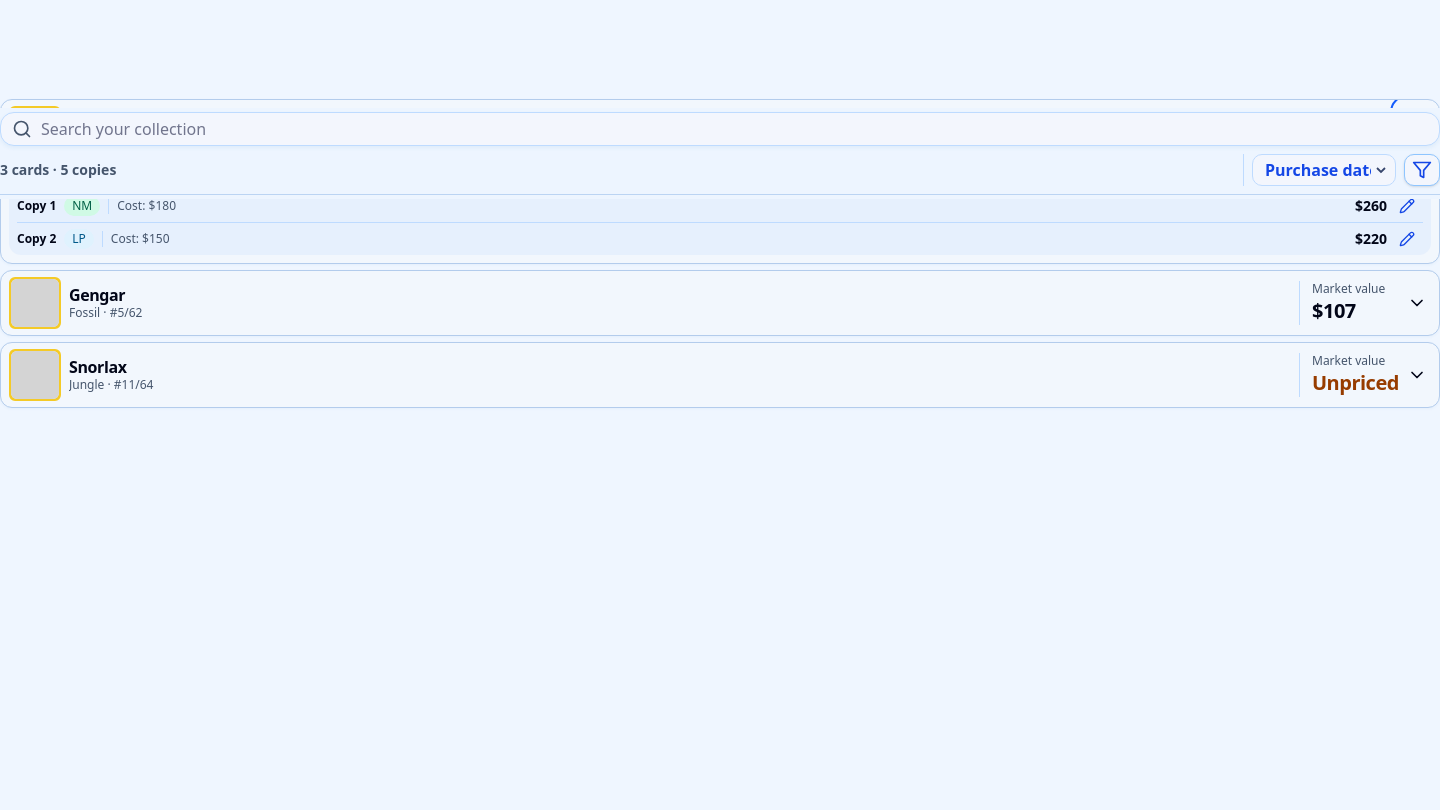
Test: expands duplicates with separate grades/prices and edits the exact chosen copy
Earlier steps of the test are not shown.
Later steps or results of the test are not shown.
Expected: the text "Cost: $180" is shown, [108,198,176,214]
Expected: the text "Cost: $150" is shown, [102,230,170,246]
Click the button named "Edit copy charizard-b" at (1407, 238), box [1391,222,1423,254]
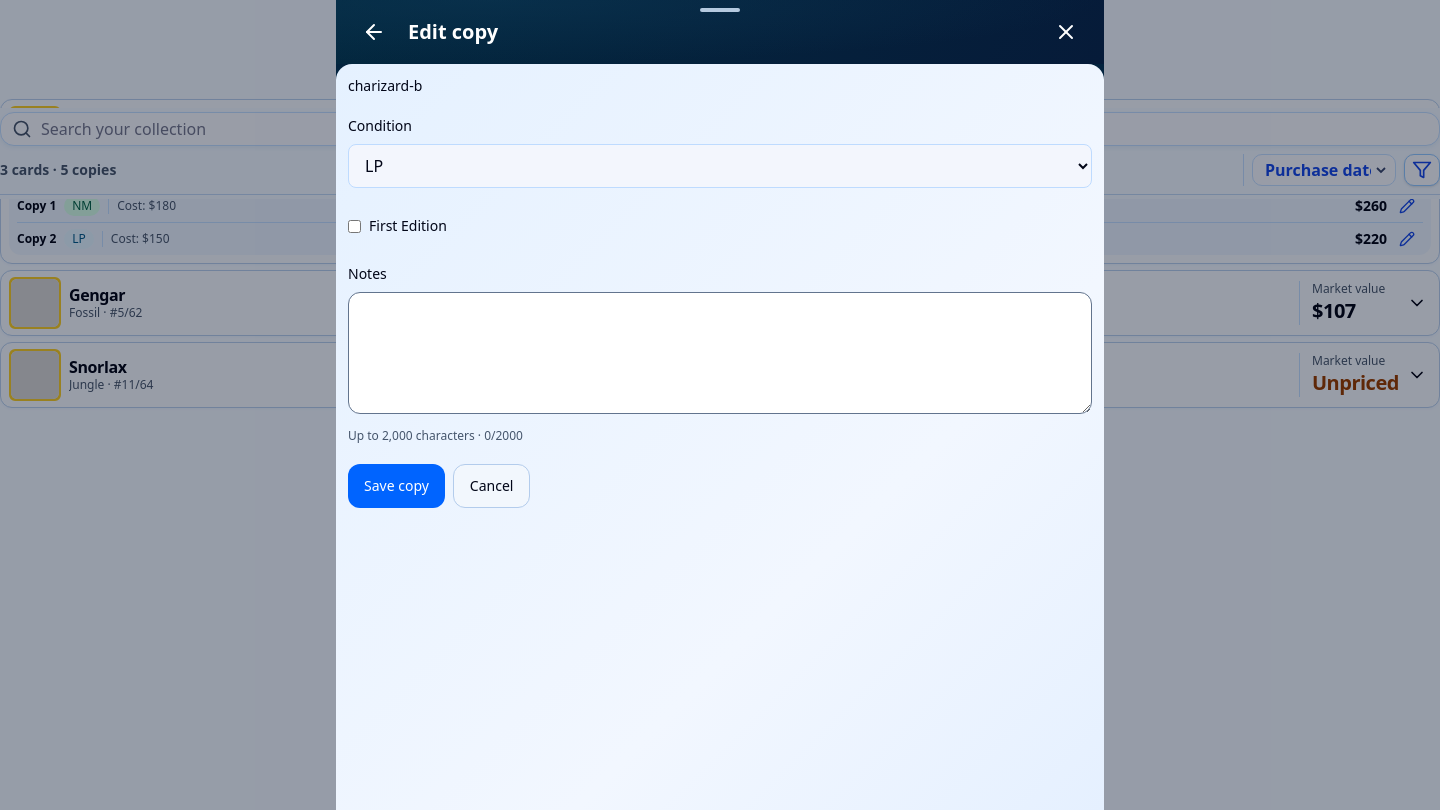
Now the text "charizard-b" is shown, box [348,76,422,95]
Now the dropdown labelled "Condition" shows "LP", box [348,144,1092,188]
